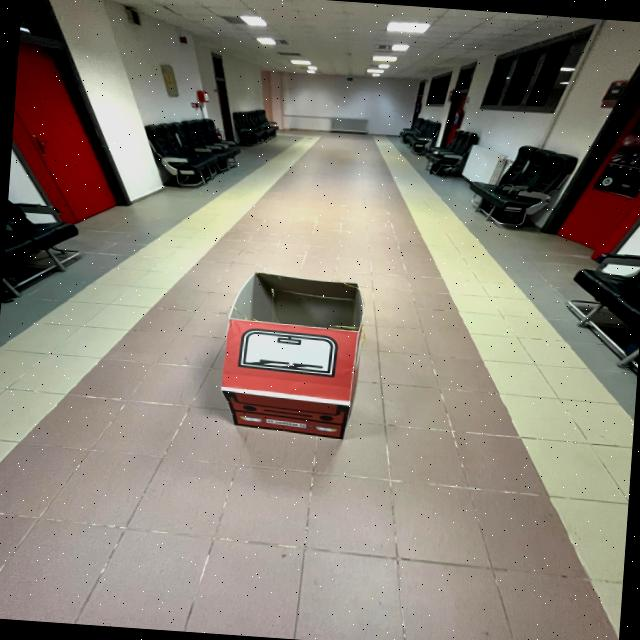red_car: (187, 257, 391, 468)
